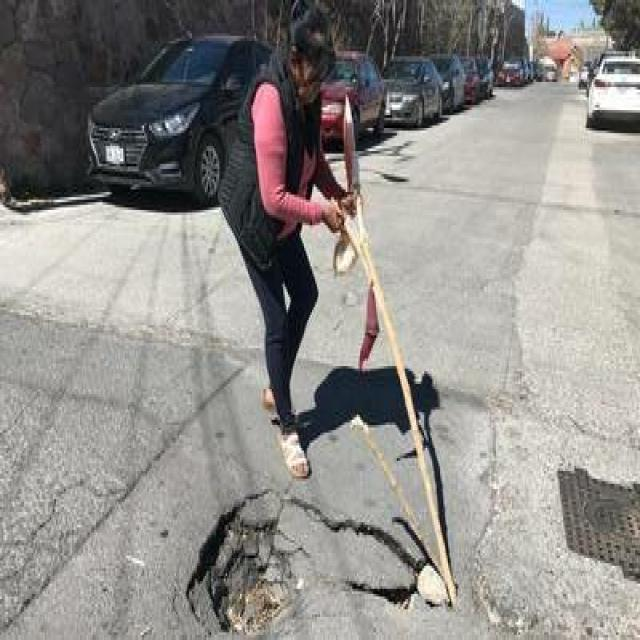Pothole: (142, 443, 506, 640)
